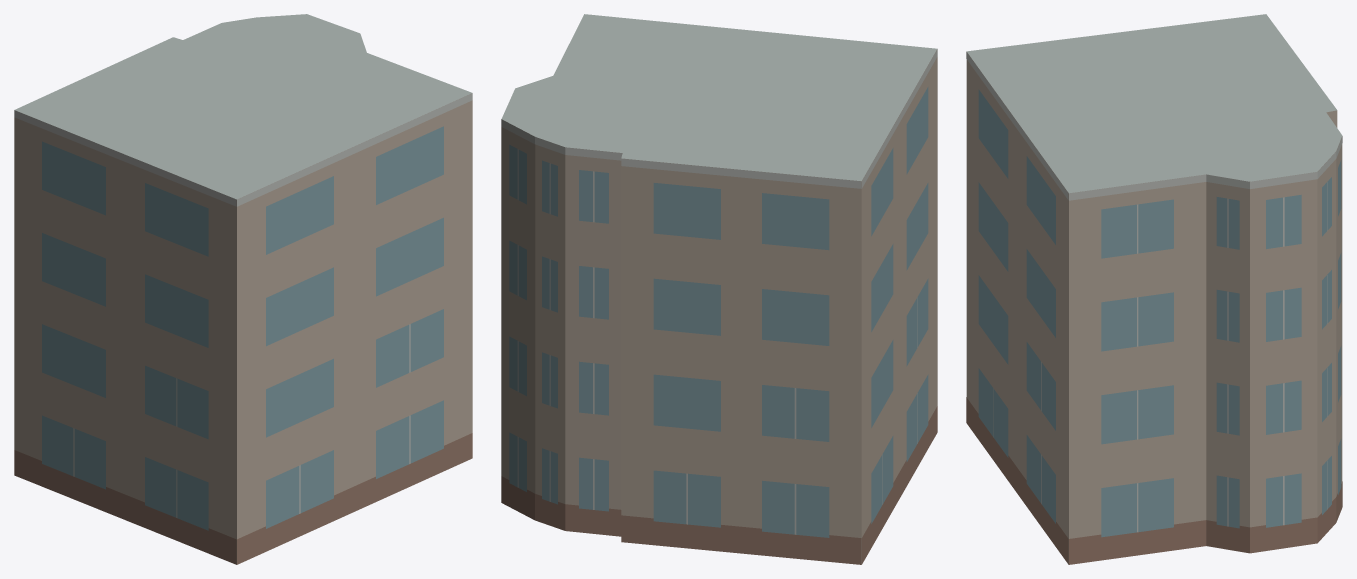
File: survey-upis-32615580.glb
The picture shows the model from 3 angles, left to right: view 1: azimuth 30°, elevation 25°; view 2: azimuth 150°, elevation 25°; view 3: azimuth 270°, elevation 25°; orthographic projection. The views are drawn at different scales.
Visible parts, largest first — view 1: survey-upis-32615580.tmp; view 2: survey-upis-32615580.tmp; view 3: survey-upis-32615580.tmp.
Part boxes in pixels (x1,y1,x2,y2): survey-upis-32615580.tmp: (14, 14, 472, 564); survey-upis-32615580.tmp: (501, 14, 937, 564); survey-upis-32615580.tmp: (966, 14, 1342, 564).
Bounding box in the file's own units: 12.64 × 12.2 × 11.2.
